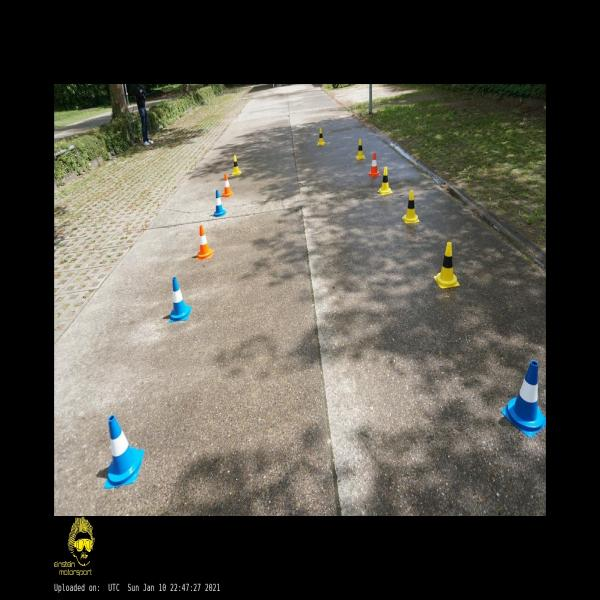blue_cone: (501, 360, 546, 437), (104, 415, 144, 488), (168, 277, 192, 322), (213, 190, 227, 217)
orange_cone: (195, 225, 214, 259), (367, 153, 380, 177), (222, 173, 233, 197)
yellow_cone: (434, 242, 459, 288), (402, 190, 420, 223), (378, 167, 392, 194), (231, 155, 242, 176), (356, 139, 366, 160), (317, 128, 326, 145)
